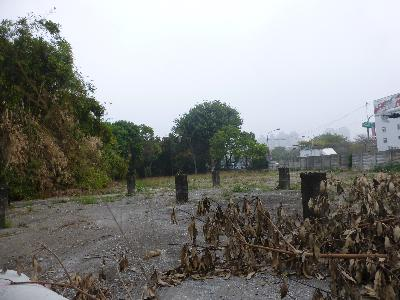bucket: (300, 172, 331, 221), (173, 172, 190, 203), (124, 172, 140, 195), (278, 165, 293, 189), (210, 168, 222, 187)
